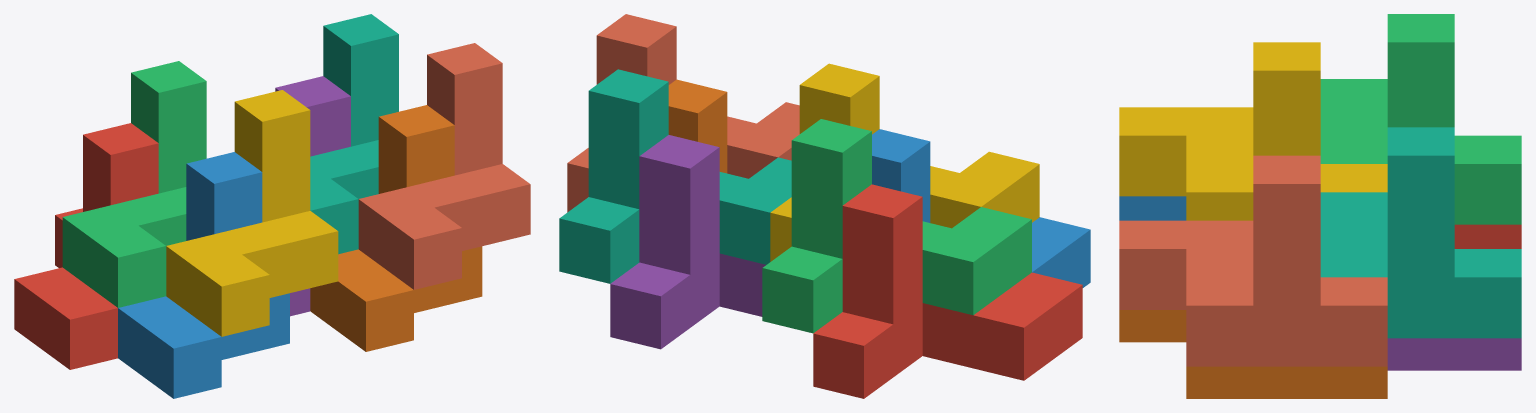
The model's file is tiling.obj.
The picture shows the model from 3 angles, left to right: view 1: azimuth 30°, elevation 25°; view 2: azimuth 150°, elevation 25°; view 3: azimuth 270°, elevation 25°; orthographic projection. The views are drawn at different scales.
Visible parts, largest first — view 1: copy_1_domain_4, copy_1_domain_8, copy_1_domain_3, copy_1_domain_2, copy_1_domain_6, copy_1_domain_1, copy_1_domain_7, copy_1_domain_5; view 2: copy_1_domain_1, copy_1_domain_3, copy_1_domain_7, copy_1_domain_5, copy_1_domain_4, copy_1_domain_8, copy_1_domain_2, copy_1_domain_6; view 3: copy_1_domain_8, copy_1_domain_7, copy_1_domain_4, copy_1_domain_3, copy_1_domain_6, copy_1_domain_5, copy_1_domain_2, copy_1_domain_1.
Part boxes in pixels (x1,y1,x2,y2): copy_1_domain_4: (166,90,338,336); copy_1_domain_8: (358,43,530,289); copy_1_domain_3: (62,61,206,307); copy_1_domain_2: (118,152,289,398); copy_1_domain_6: (310,105,482,351); copy_1_domain_1: (14,123,158,369); copy_1_domain_7: (310,14,398,254); copy_1_domain_5: (275,76,350,316); copy_1_domain_1: (813,184,1082,398); copy_1_domain_3: (762,119,1031,333); copy_1_domain_7: (559,69,791,283); copy_1_domain_5: (610,135,765,349); copy_1_domain_4: (770,63,1039,261); copy_1_domain_8: (567,14,799,212); copy_1_domain_2: (872,129,1090,287); copy_1_domain_6: (668,79,727,173); copy_1_domain_8: (1119,155,1387,366); copy_1_domain_7: (1320,127,1521,338); copy_1_domain_4: (1119,42,1387,220); copy_1_domain_3: (1320,14,1521,224); copy_1_domain_6: (1119,310,1387,398); copy_1_domain_5: (1387,338,1521,370); copy_1_domain_2: (1119,196,1186,220); copy_1_domain_1: (1454,224,1521,248).
Bounding box in the file's own units: 9 × 4 × 6.
